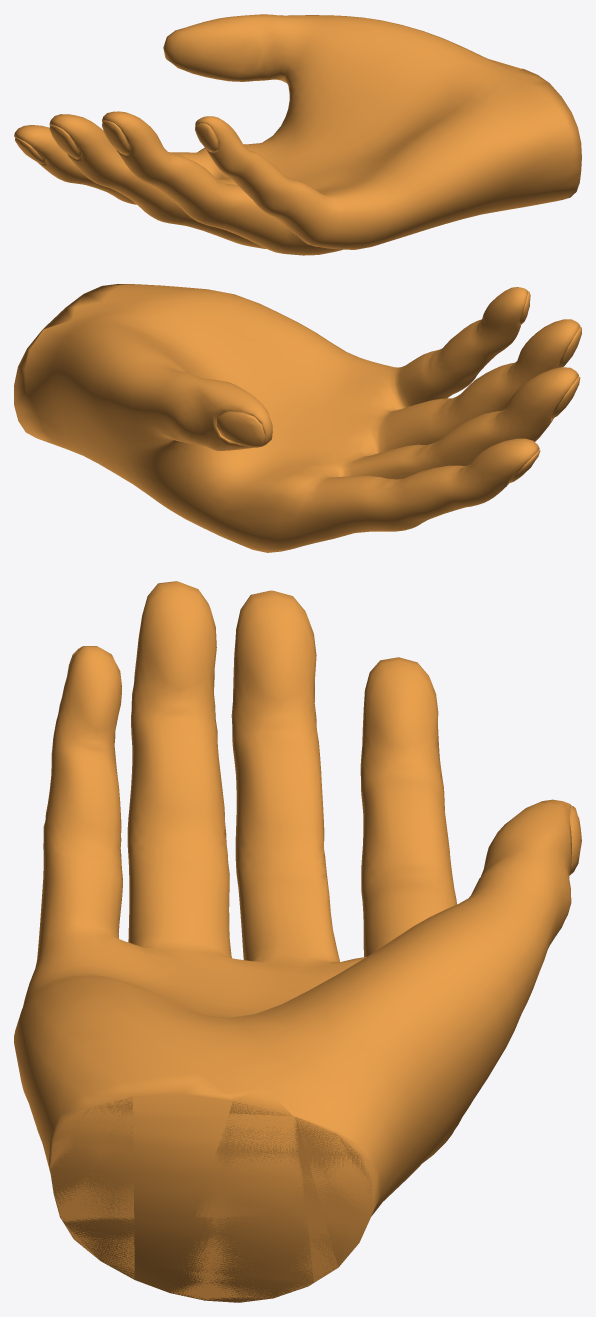
Rendered from EESHands.glb.
3 renders of one model, top to bottom at view 1: azimuth 30°, elevation 25°; view 2: azimuth 150°, elevation 25°; view 3: azimuth 270°, elevation 25°, orthographic. The views are drawn at different scales.
Visible parts, largest first — view 1: Arms; view 2: Arms; view 3: Arms.
Boxes of the visible parts, left/top/right/bottom form: Arms: left=14, top=14, right=581, bottom=255; Arms: left=14, top=284, right=581, bottom=552; Arms: left=14, top=581, right=581, bottom=1302.
Size of the model in its own units: 0.2015 by 0.0829 by 0.1176.
